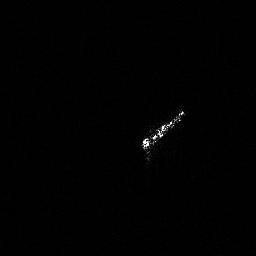ship: (142, 110, 184, 150)
